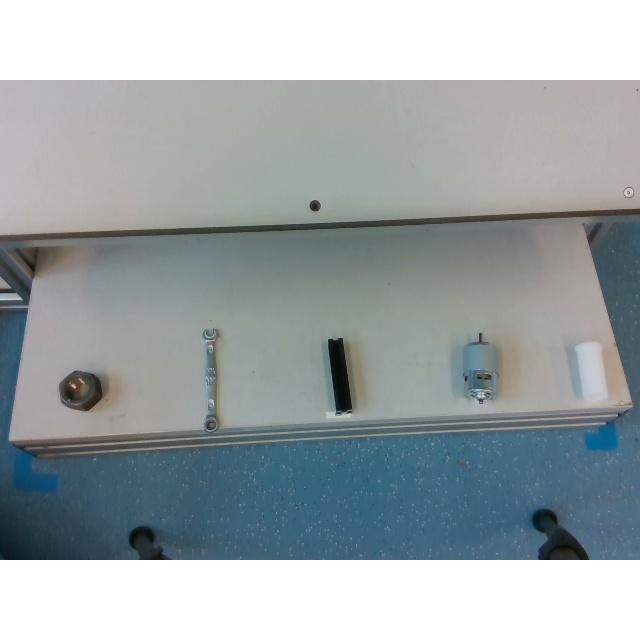F20_20_B: (328, 338, 352, 410)
M30: (59, 370, 103, 408)
Motor2: (462, 332, 498, 402)
Spacer: (574, 341, 606, 395)
Wrench: (202, 326, 222, 429)
